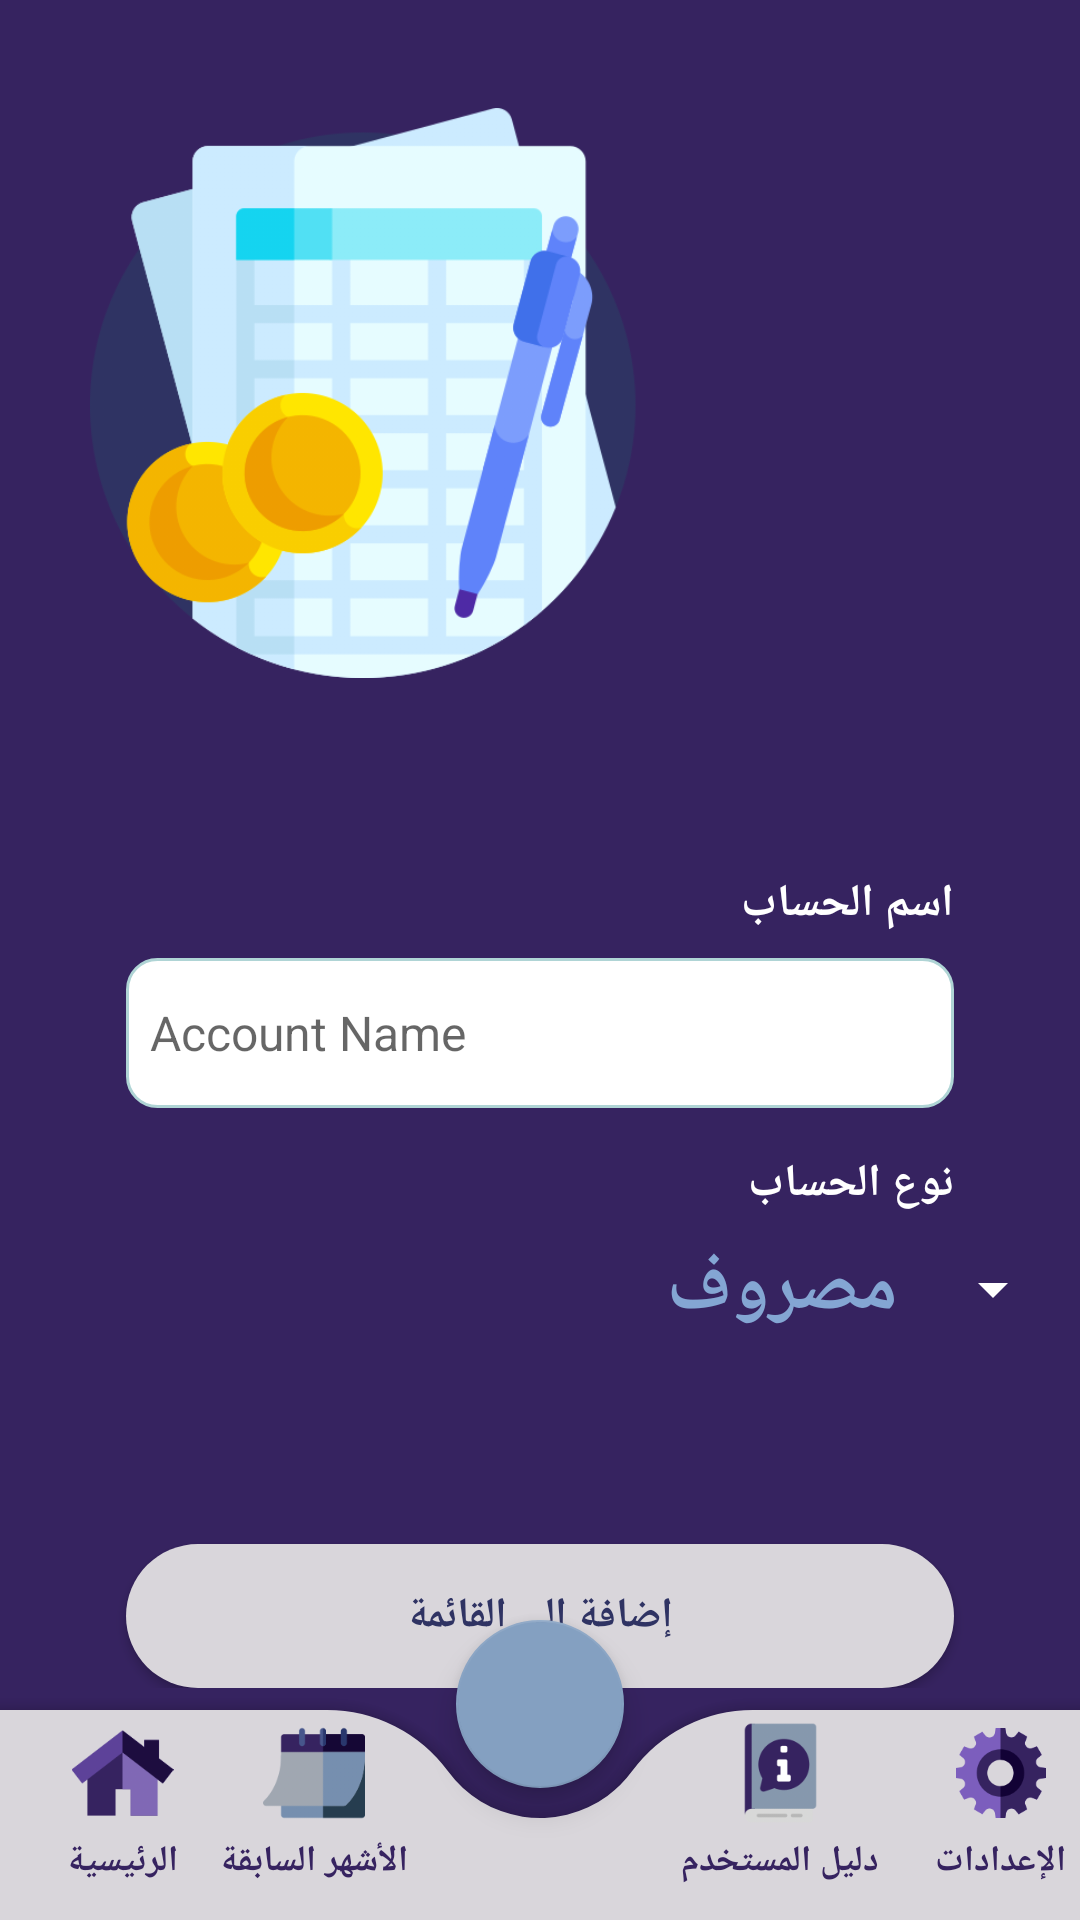

Where to tap for icons on this 1080px x 1920px app screen, as (x,y):
calendar masroofe: (314,1773)
